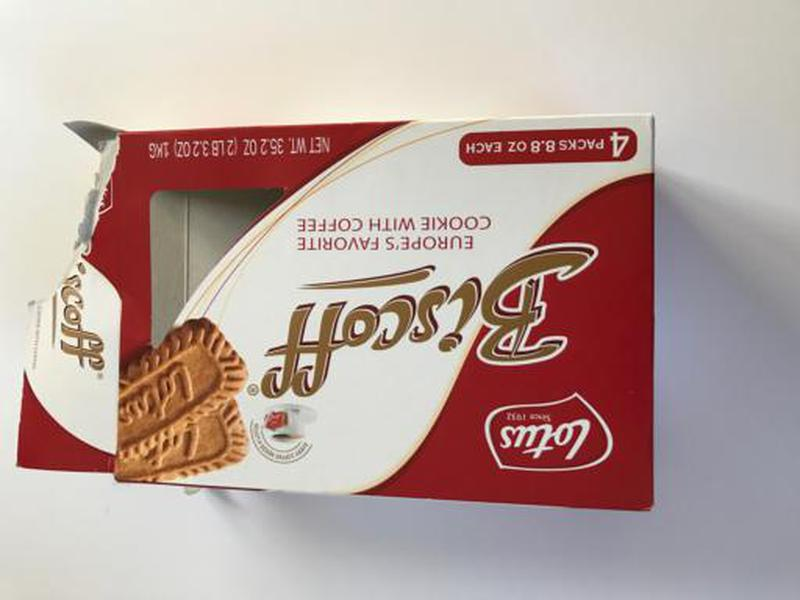paper: (11, 104, 663, 515)
